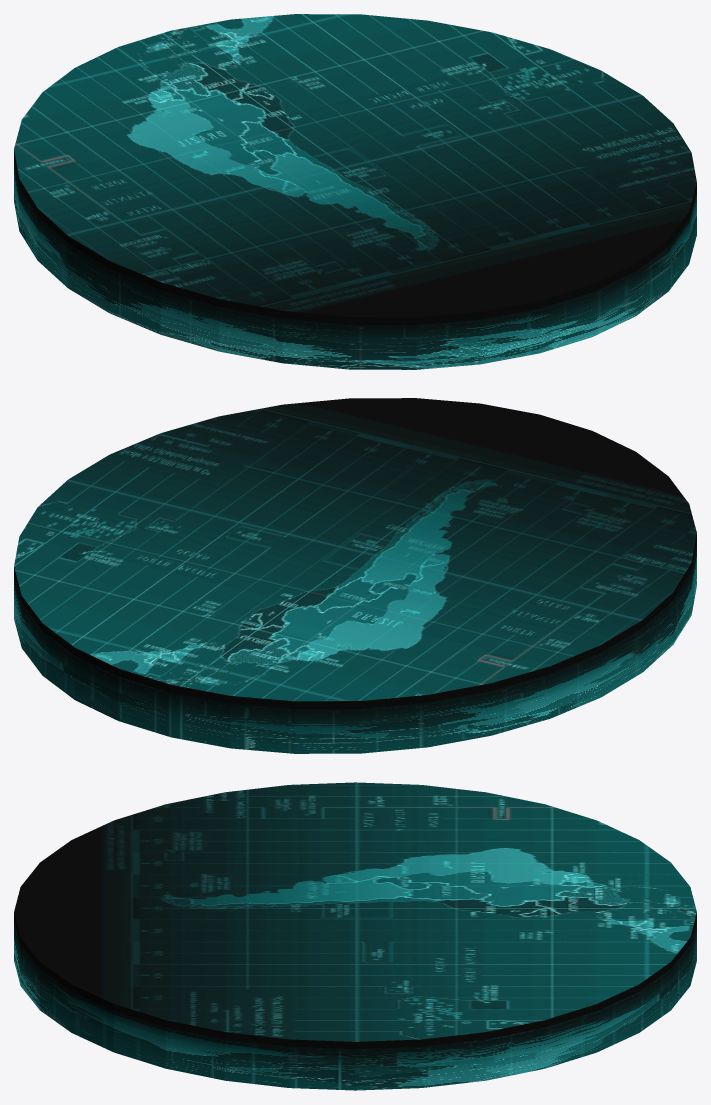
File: stage-texture.glb
3 renders of one model, top to bottom at view 1: azimuth 30°, elevation 25°; view 2: azimuth 150°, elevation 25°; view 3: azimuth 270°, elevation 25°, orthographic. The views are drawn at different scales.
Parts seen in each view (by area): view 1: Cylinder; view 2: Cylinder; view 3: Cylinder.
Part boxes in pixels (left/top/right/bottom): Cylinder: left=14, top=14, right=696, bottom=369; Cylinder: left=14, top=398, right=696, bottom=753; Cylinder: left=14, top=782, right=696, bottom=1090.
Size of the model in its own units: 22.9 by 2 by 25.47.
1 material, 1 textured.
